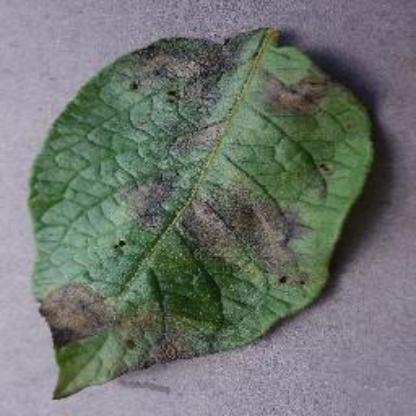Late-Blight: (22, 29, 386, 389)
